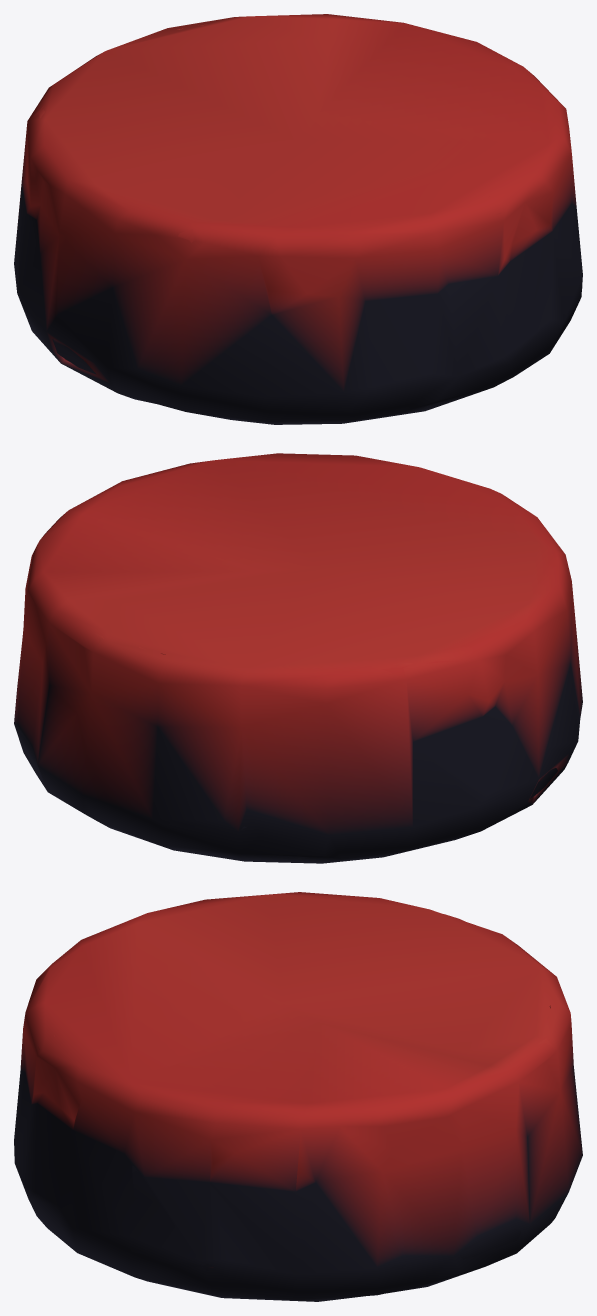
The model's file is gen3d-hockey-puck-lod1.glb.
3 renders of one model, top to bottom at view 1: azimuth 30°, elevation 25°; view 2: azimuth 150°, elevation 25°; view 3: azimuth 270°, elevation 25°, orthographic.
Parts seen in each view (by area): view 1: part_0; view 2: part_0; view 3: part_0.
Part boxes in pixels (box(x1,y1,x2,y2)): part_0: box(14, 14, 582, 424); part_0: box(14, 453, 582, 863); part_0: box(14, 892, 582, 1301).
Bounding box in the file's own units: 2.61 × 0.9992 × 2.61.
